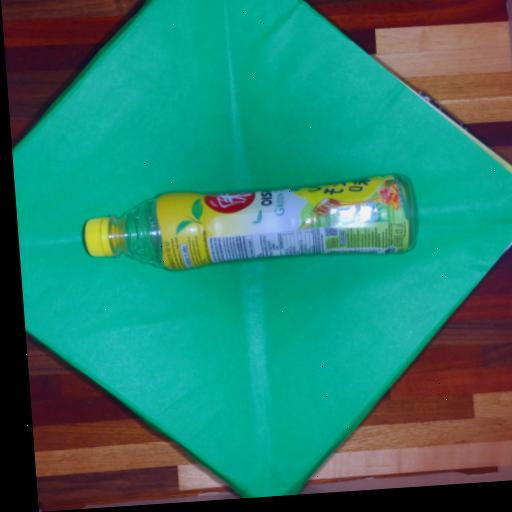bottle: (74, 166, 423, 289)
